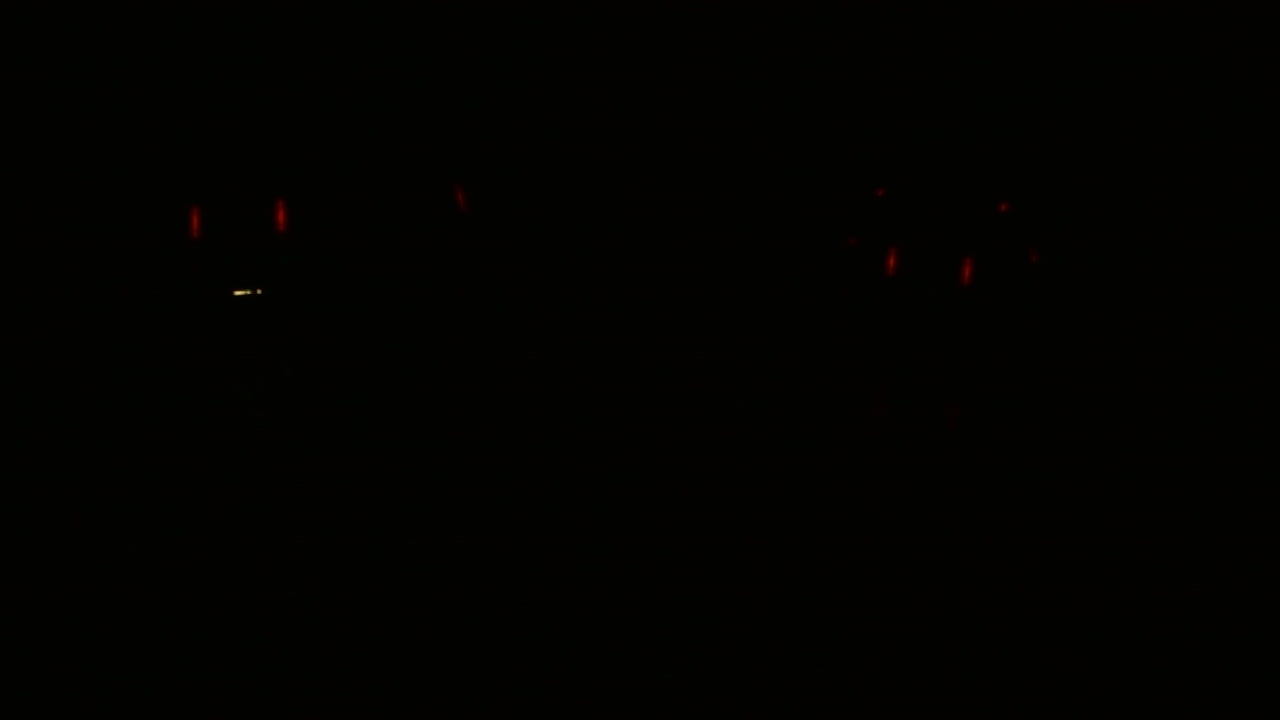pair1: (175, 184, 304, 254)
pair2: (876, 240, 984, 299)
